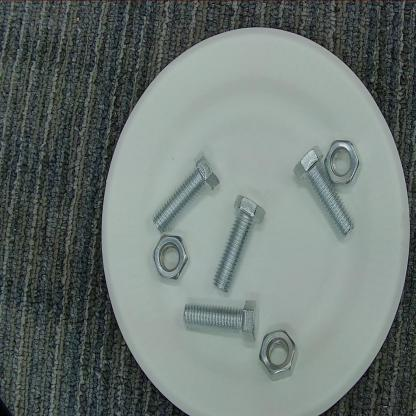FOD: (292, 146, 356, 240), (154, 150, 223, 235), (211, 194, 267, 296), (178, 297, 264, 350), (254, 328, 302, 380), (326, 136, 367, 192), (151, 233, 192, 286)
